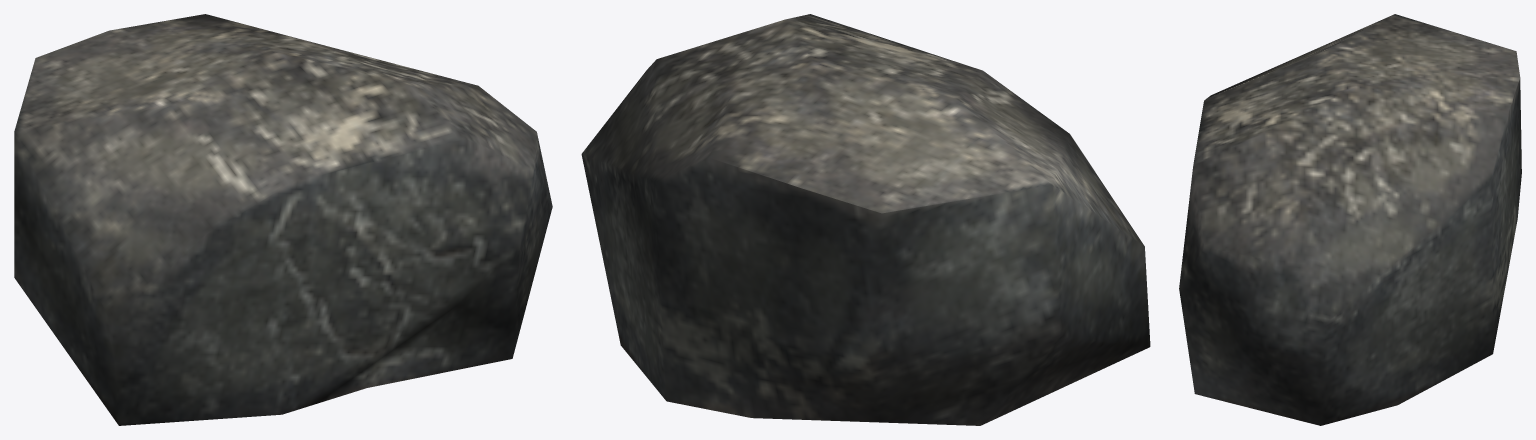
Rendered from Object_Rock3.obj.
The picture shows the model from 3 angles, left to right: view 1: azimuth 30°, elevation 25°; view 2: azimuth 150°, elevation 25°; view 3: azimuth 270°, elevation 25°; orthographic projection. The views are drawn at different scales.
Parts seen in each view (by area): view 1: smallrock3; view 2: smallrock3; view 3: smallrock3.
Boxes of the visible parts, bbox=[...] form: smallrock3: bbox=[14, 14, 552, 425]; smallrock3: bbox=[581, 14, 1150, 425]; smallrock3: bbox=[1179, 14, 1521, 425].
Bounding box in the file's own units: 15.46 × 8.62 × 10.74.
Materials: 1 (1 with a texture image).
